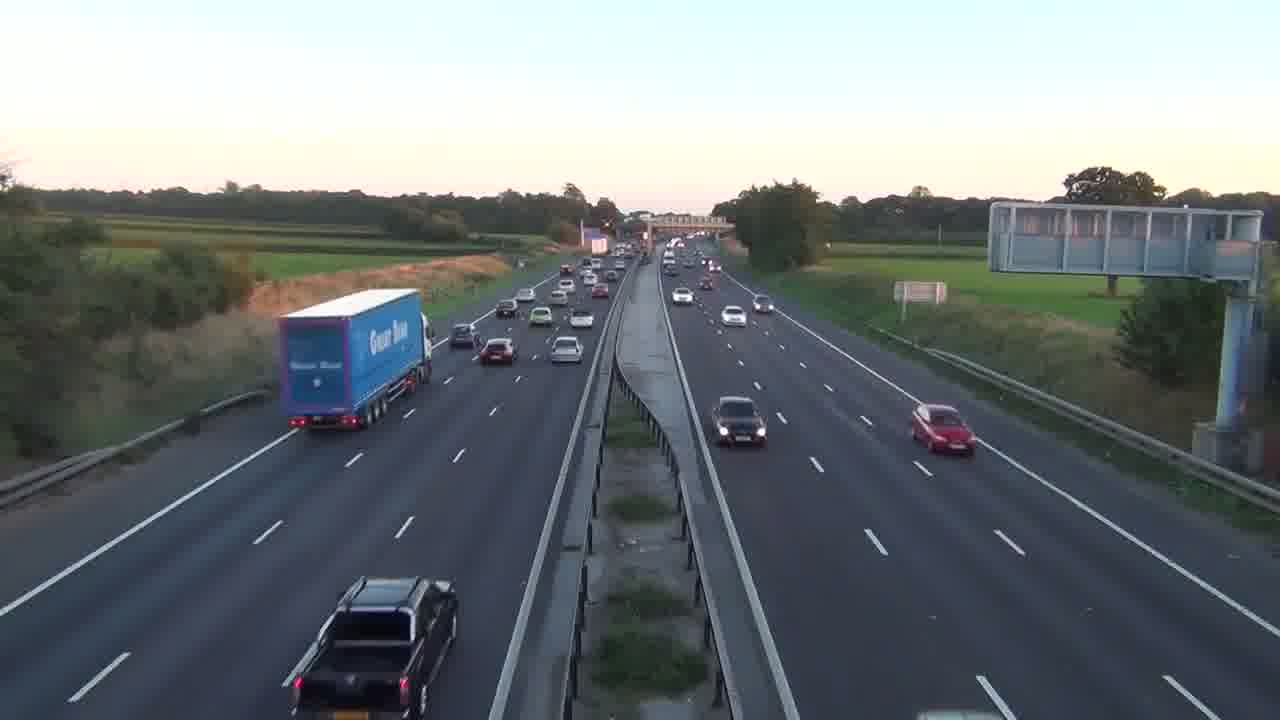car: (282, 574, 461, 716), (911, 403, 977, 456), (711, 396, 768, 449), (478, 336, 515, 366), (549, 335, 583, 364), (527, 304, 554, 328), (495, 299, 517, 319), (569, 312, 594, 328)
truck: (282, 574, 461, 716), (277, 286, 432, 431)
